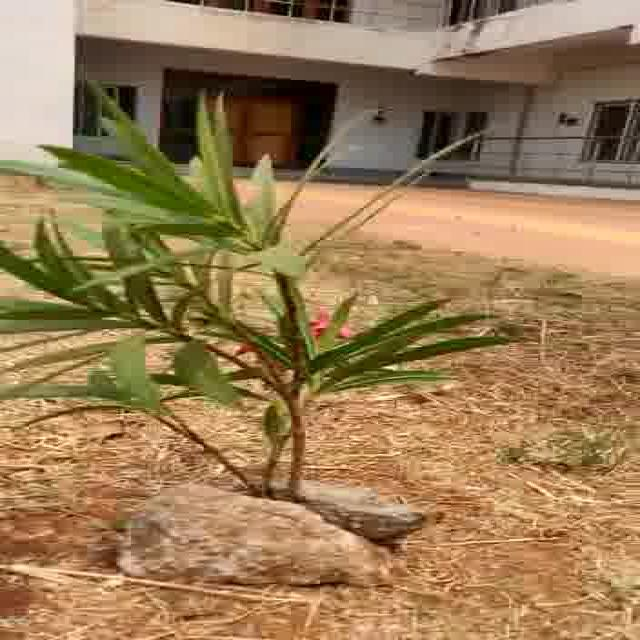Oleander: (0, 100, 497, 430)
